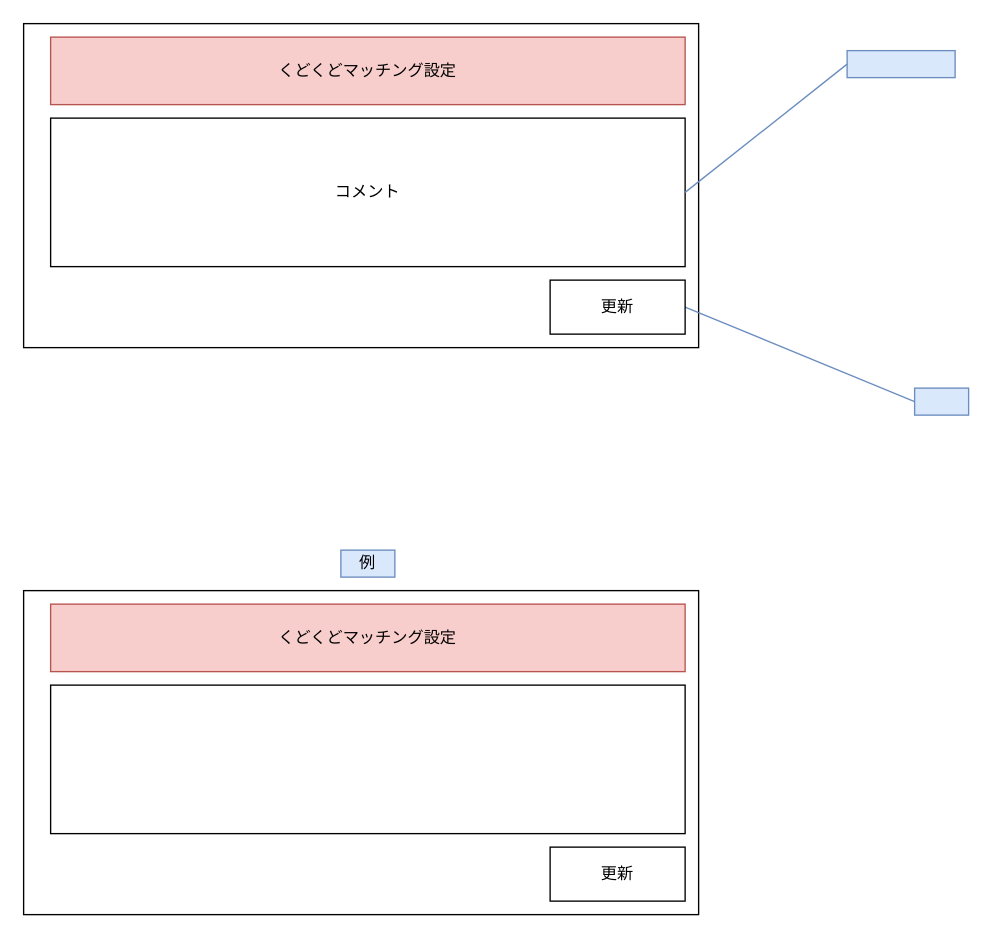
The diagram is 992 pixels wide and 938 high, and some of its shapes have lost their labels. Each missing label, with the centre of its shape:
"v-btn" goes at (x=941, y=401).
"v-textarea" goes at (x=900, y=63).
"あなたにピッタリのおすすめ映画です！" goes at (x=367, y=759).
